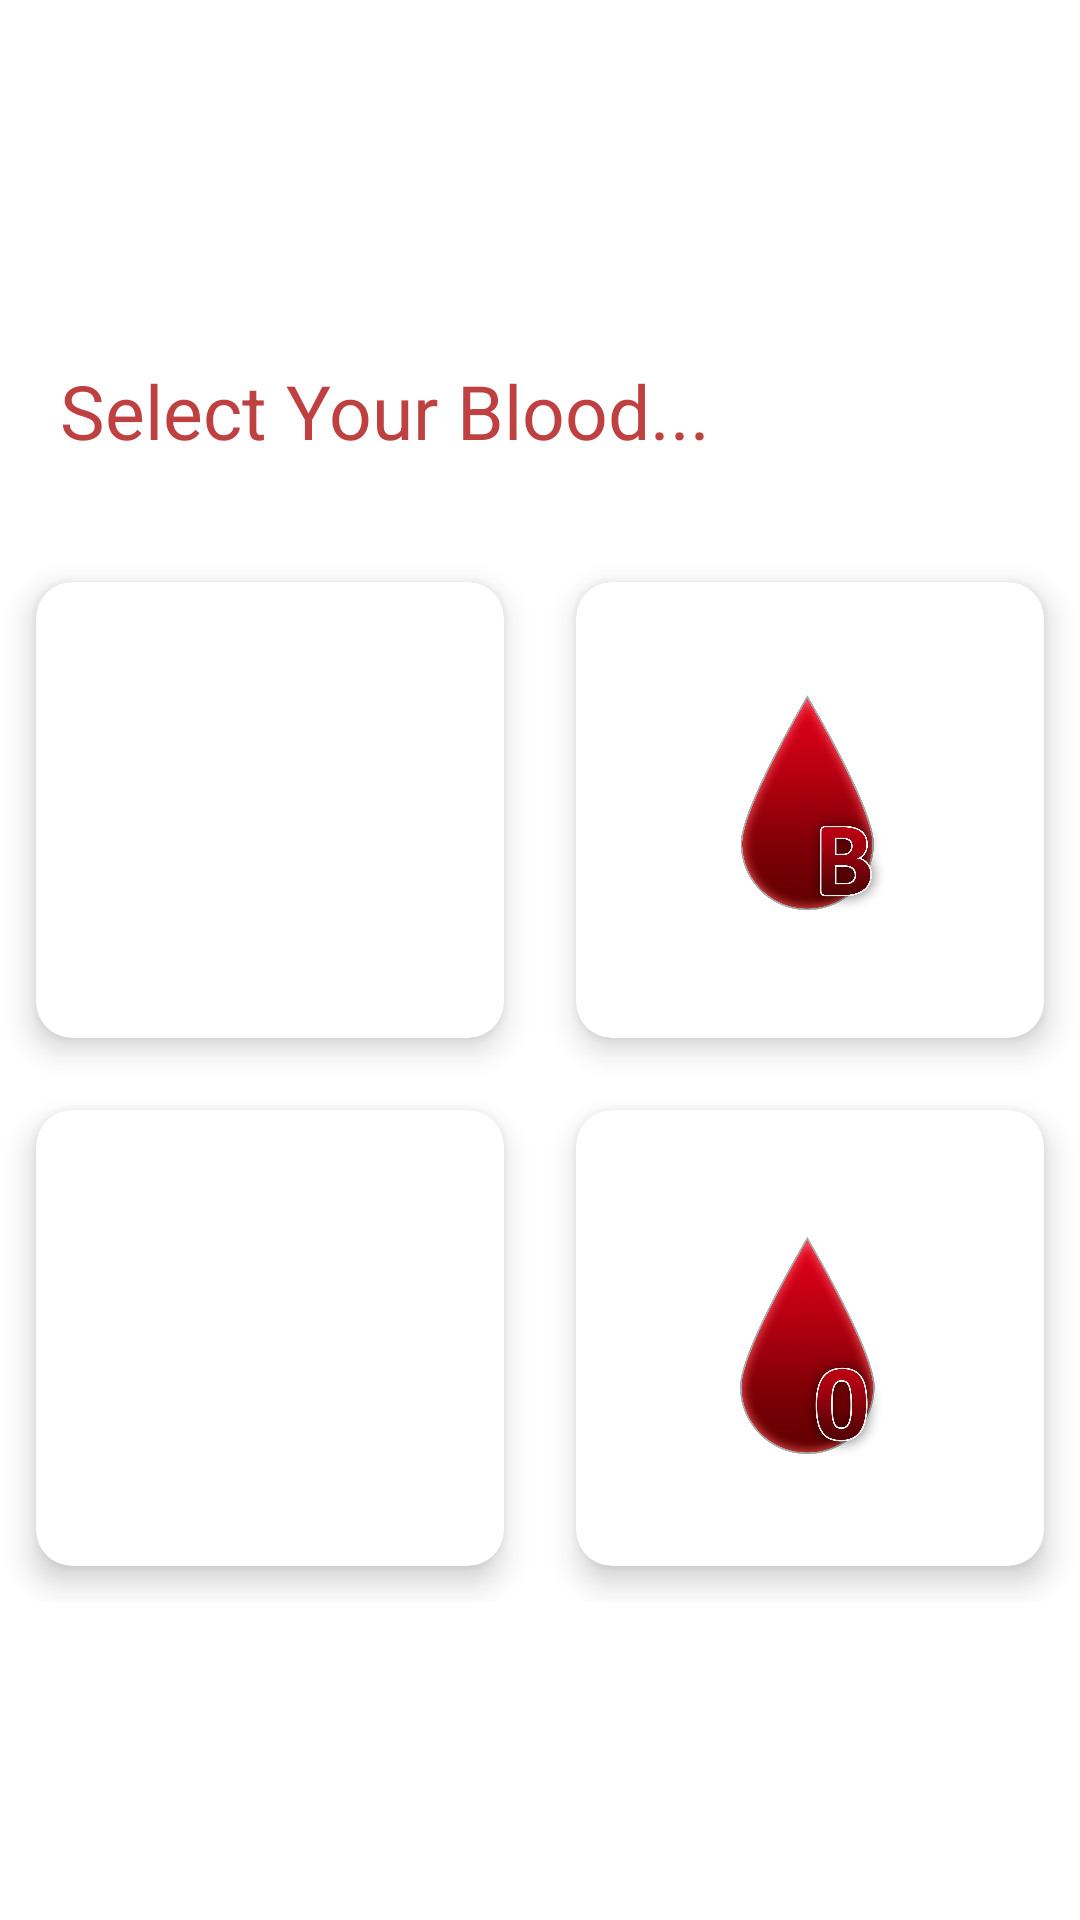

Named icons in this screenshot (1080w x 1920h) and their bounding boxes, detection(x1, y1, x2, y2):
darahb: detection(741, 695, 878, 910)
daraho: detection(740, 1237, 875, 1454)
